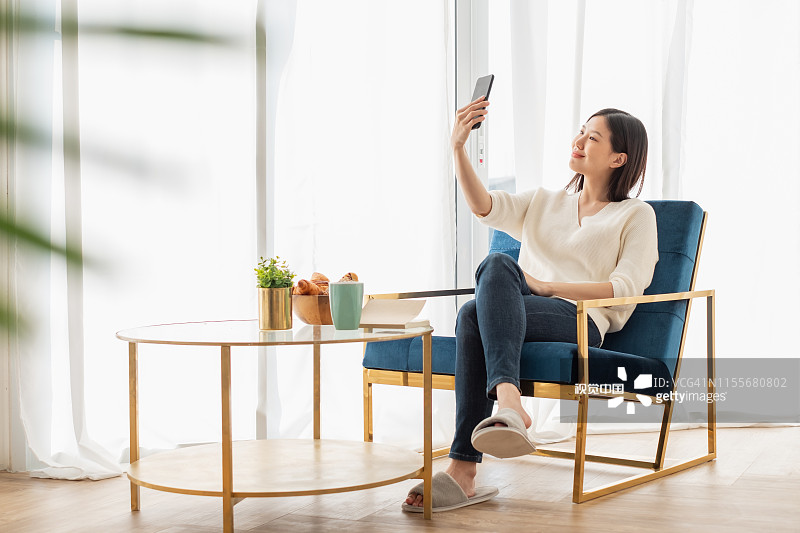taking photos: (438, 78, 497, 154)
